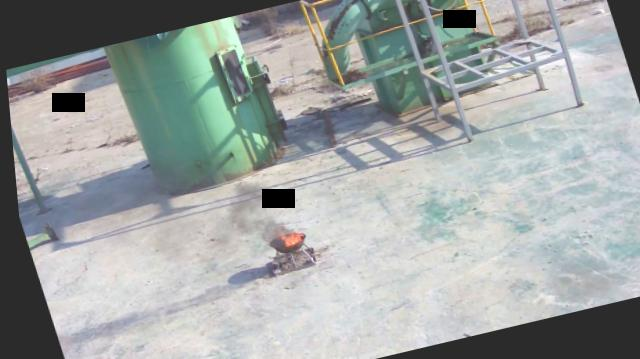fire: (277, 230, 299, 246)
smoke: (121, 154, 295, 271)
